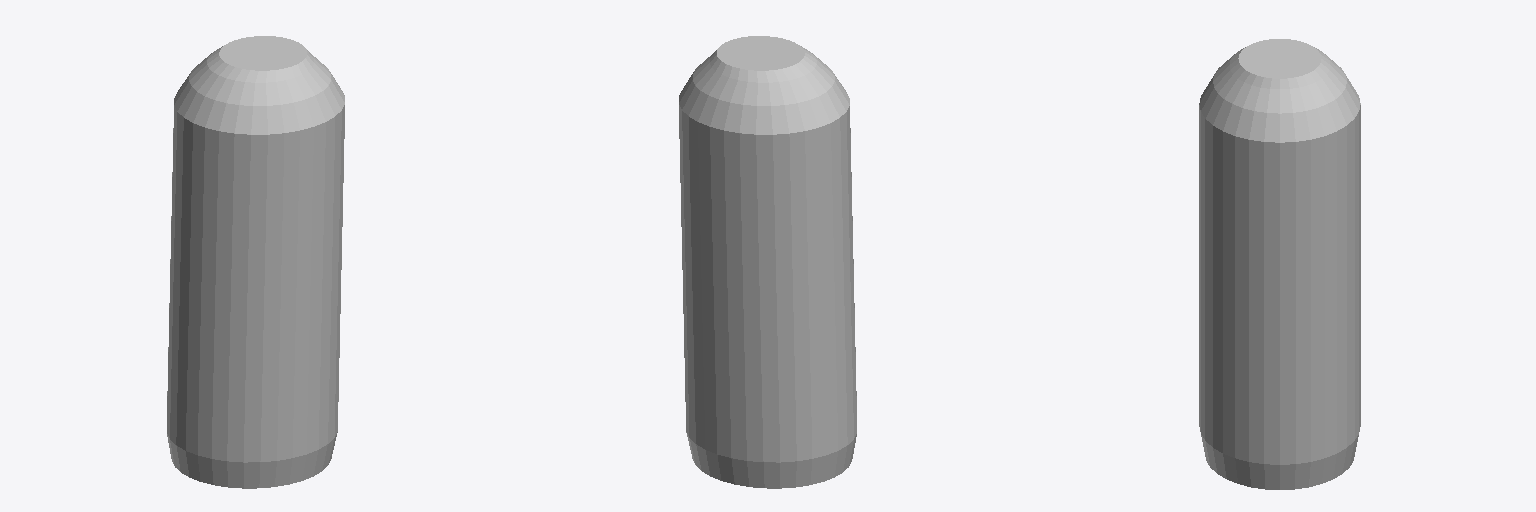
File: muslo.obj
The picture shows the model from 3 angles: view 1: azimuth 30°, elevation 25°; view 2: azimuth 150°, elevation 25°; view 3: azimuth 270°, elevation 25°; orthographic projection.
Parts seen in each view (by area): view 1: Círculo.003_Círculo.005; view 2: Círculo.003_Círculo.005; view 3: Círculo.003_Círculo.005.
Boxes of the visible parts, x1,y1,x2,y2 form: Círculo.003_Círculo.005: [167, 36, 344, 488]; Círculo.003_Círculo.005: [679, 36, 856, 488]; Círculo.003_Círculo.005: [1199, 39, 1360, 489].
Bounding box in the file's own units: 1.46 × 3.53 × 1.28.